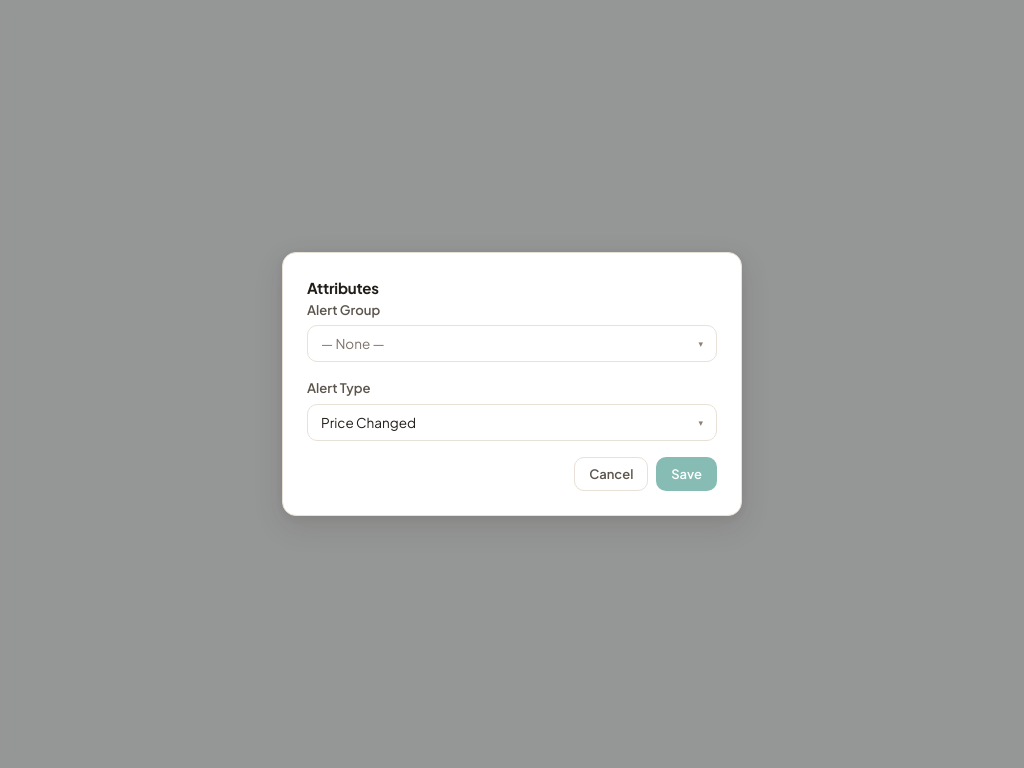
it: TaskAttributesModal › Save stays off until something differs from the task
The width and height of the screenshot is (1024, 768).
Check: the button "Save" is disabled, box [656,456,717,490]
Click the button with aria-label "Alert Type:" at point(369, 422), box [307,404,717,440]
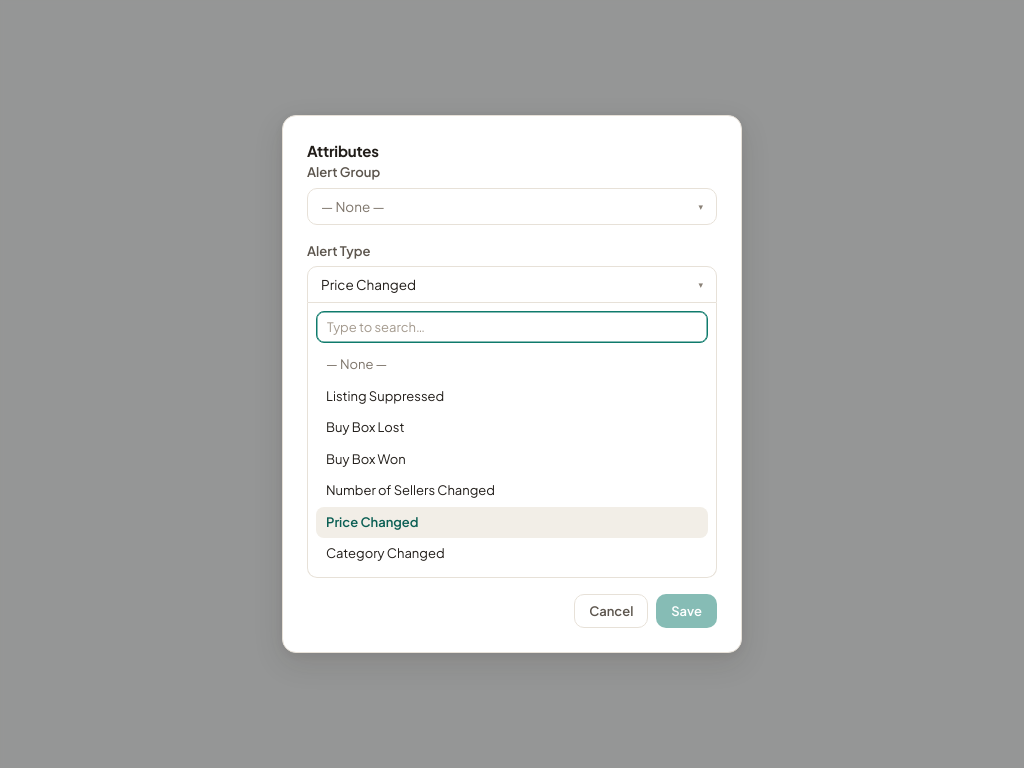
Click the option "Buy Box Lost" at point(365, 427), box [326,419,404,435]
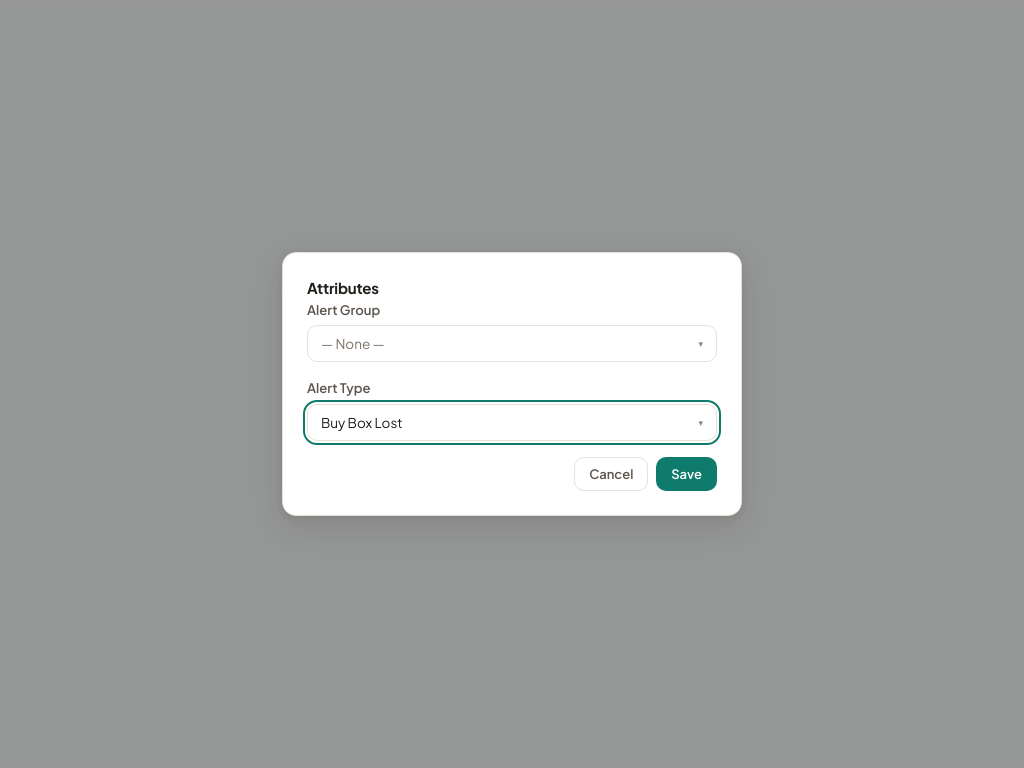
Check: the button "Save" is enabled, box [656,456,717,490]
Click the button with aria-label "Alert Type:" at point(362, 422), box [307,404,717,440]
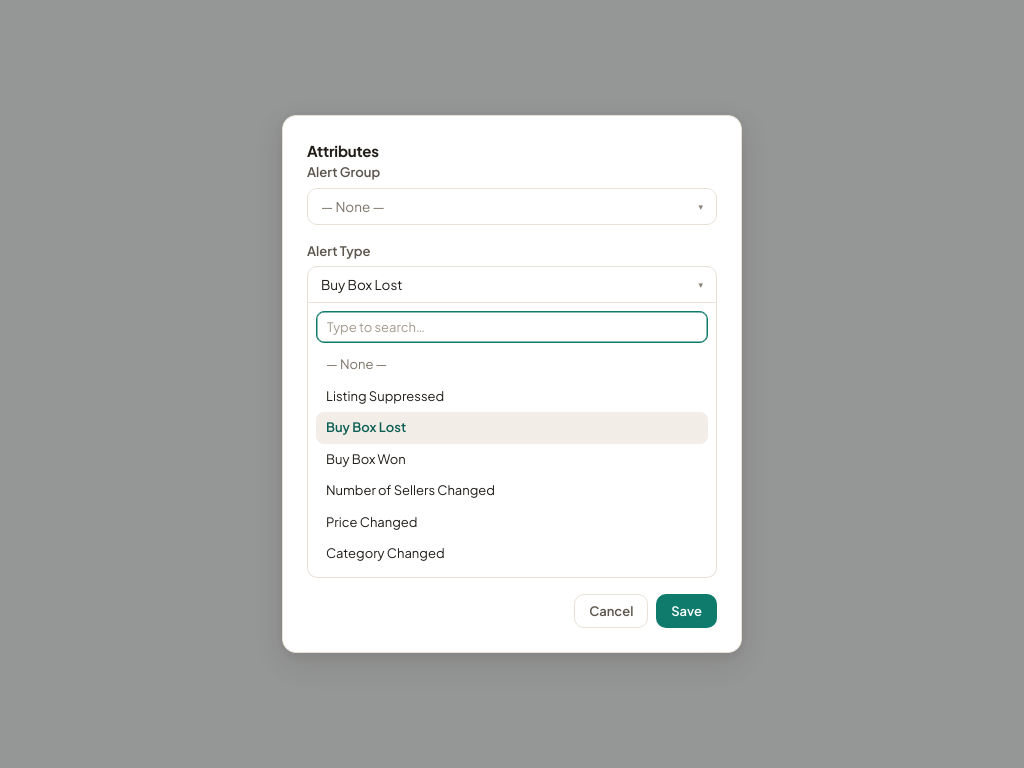
Click the option "Price Changed" at point(372, 522), box [326,514,418,530]
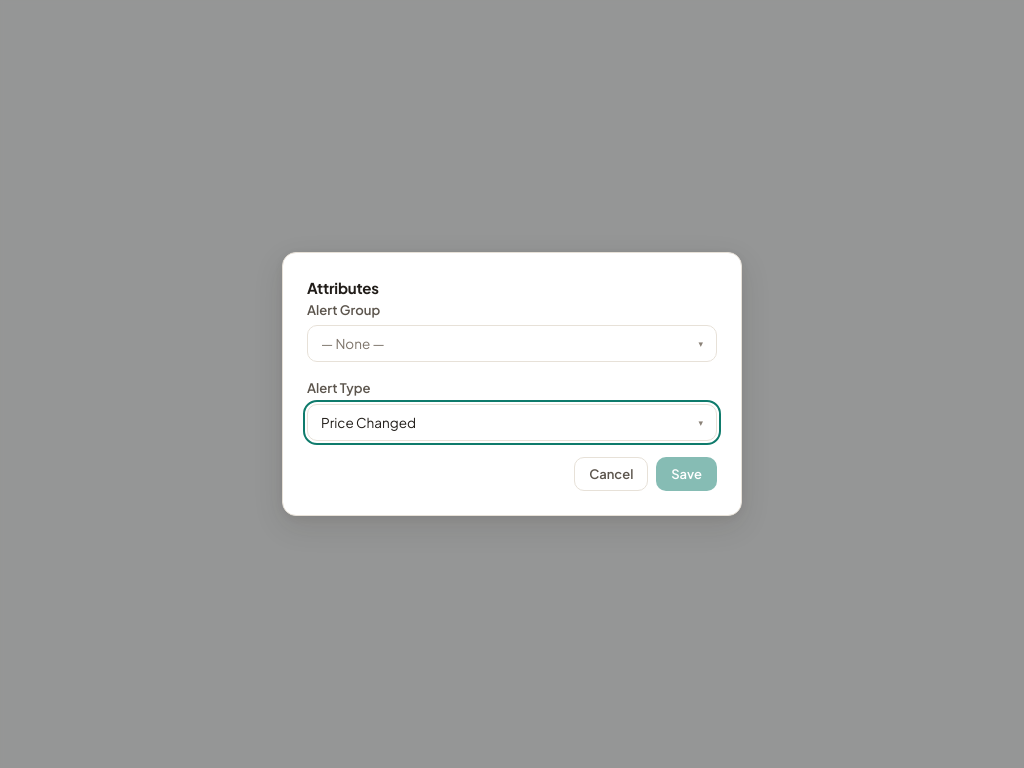
Check: the button "Save" is disabled, box [656,456,717,490]
